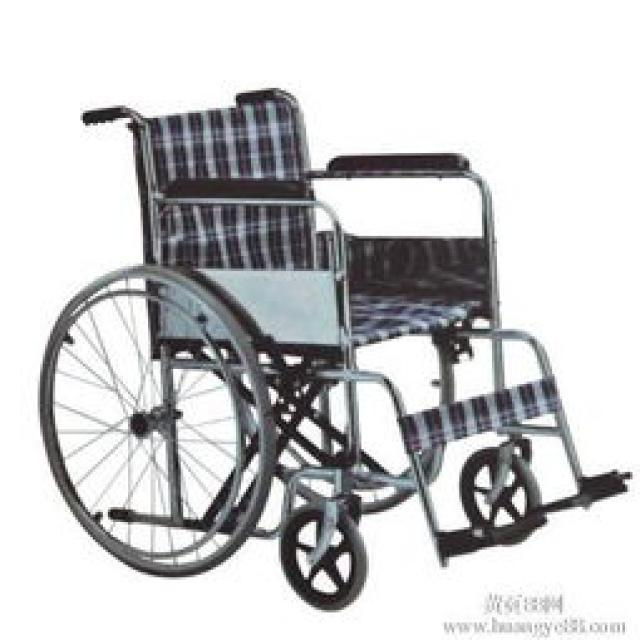wheelchair: (35, 85, 630, 608)
